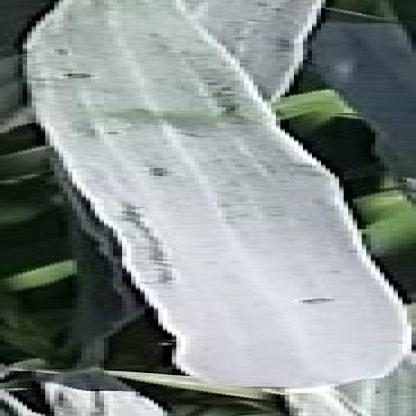Wheat Healthy: (168, 213, 344, 302), (44, 11, 274, 70), (118, 146, 301, 202), (202, 315, 367, 374), (33, 86, 229, 134)
